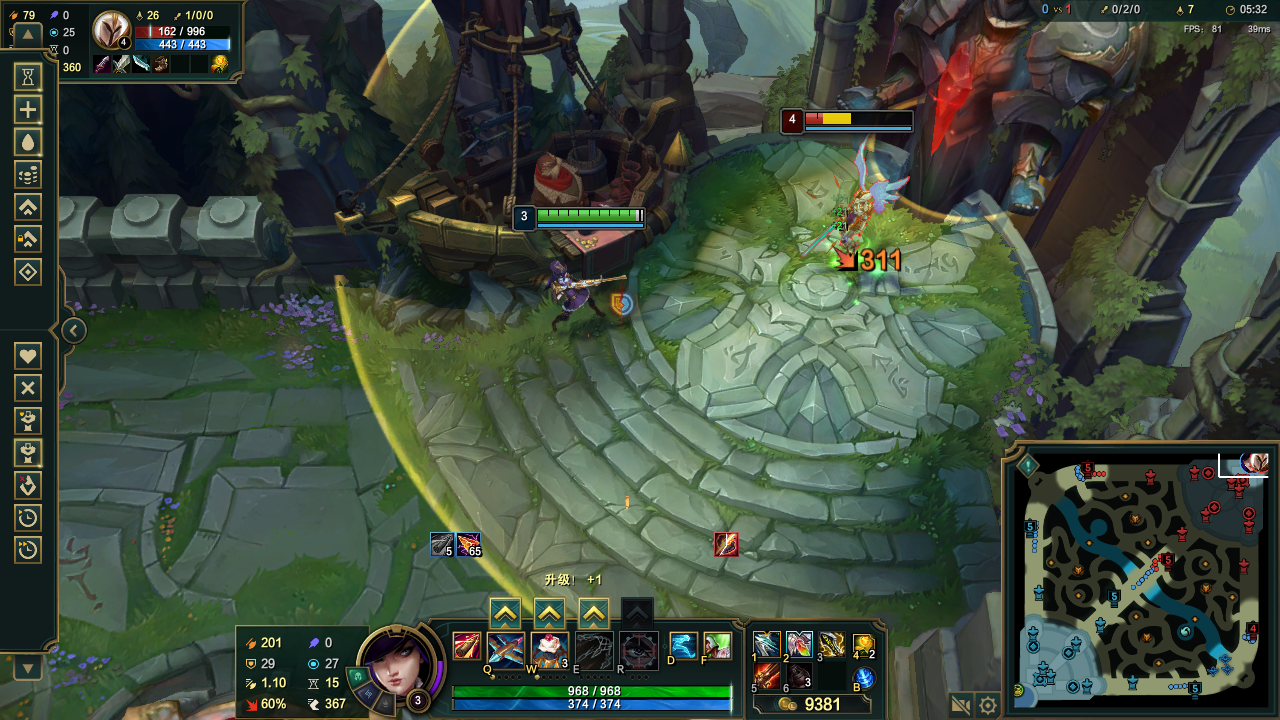DFYX: (804, 110, 917, 123)
